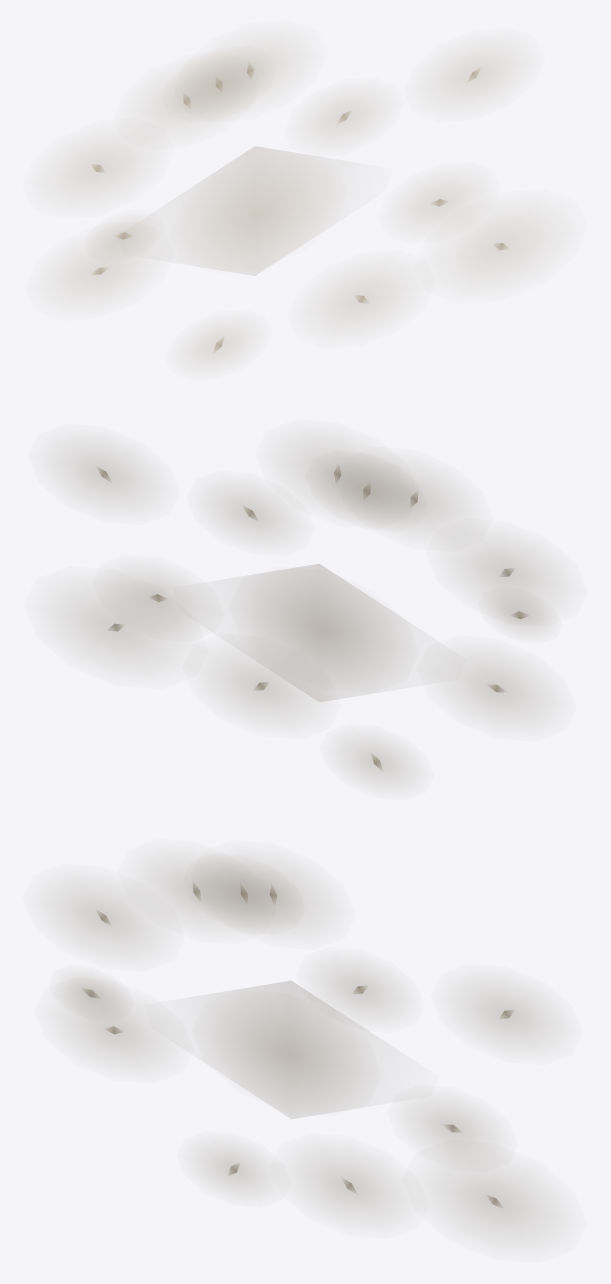
The model's file is ground_dust.glb.
3 renders of one model, top to bottom at view 1: azimuth 30°, elevation 25°; view 2: azimuth 150°, elevation 25°; view 3: azimuth 330°, elevation 25°, orthographic. The views are drawn at different scales.
Visible parts, largest first — view 1: debris, core, scar; view 2: debris, scar, core; view 3: debris, core, scar.
Boxes of the visible parts, bbox=[...] form: debris: bbox=[54, 41, 551, 365]; core: bbox=[202, 176, 315, 251]; scar: bbox=[204, 146, 304, 275]; debris: bbox=[60, 442, 554, 784]; scar: bbox=[266, 564, 373, 701]; core: bbox=[270, 596, 377, 664]; debris: bbox=[56, 854, 550, 1237]; core: bbox=[226, 1013, 347, 1093]; scar: bbox=[239, 981, 333, 1118].
Bounding box in the file's own units: 0.318 × 0.1909 × 0.0277.
